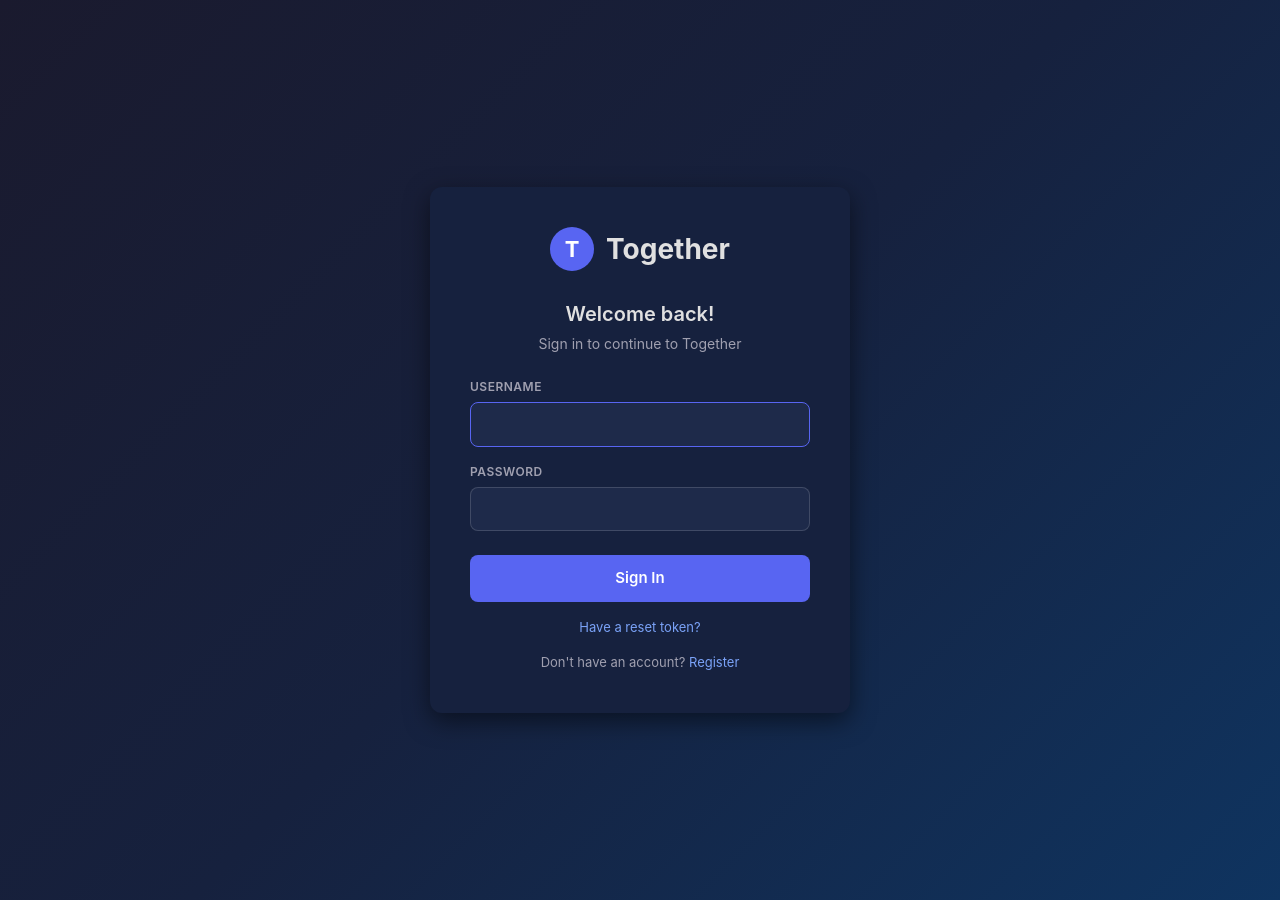
Test case: AuthForm — reset view › switches to reset view when link is clicked
Click the button "Have a reset token?".
click(640, 628)  # box [579, 618, 701, 637]
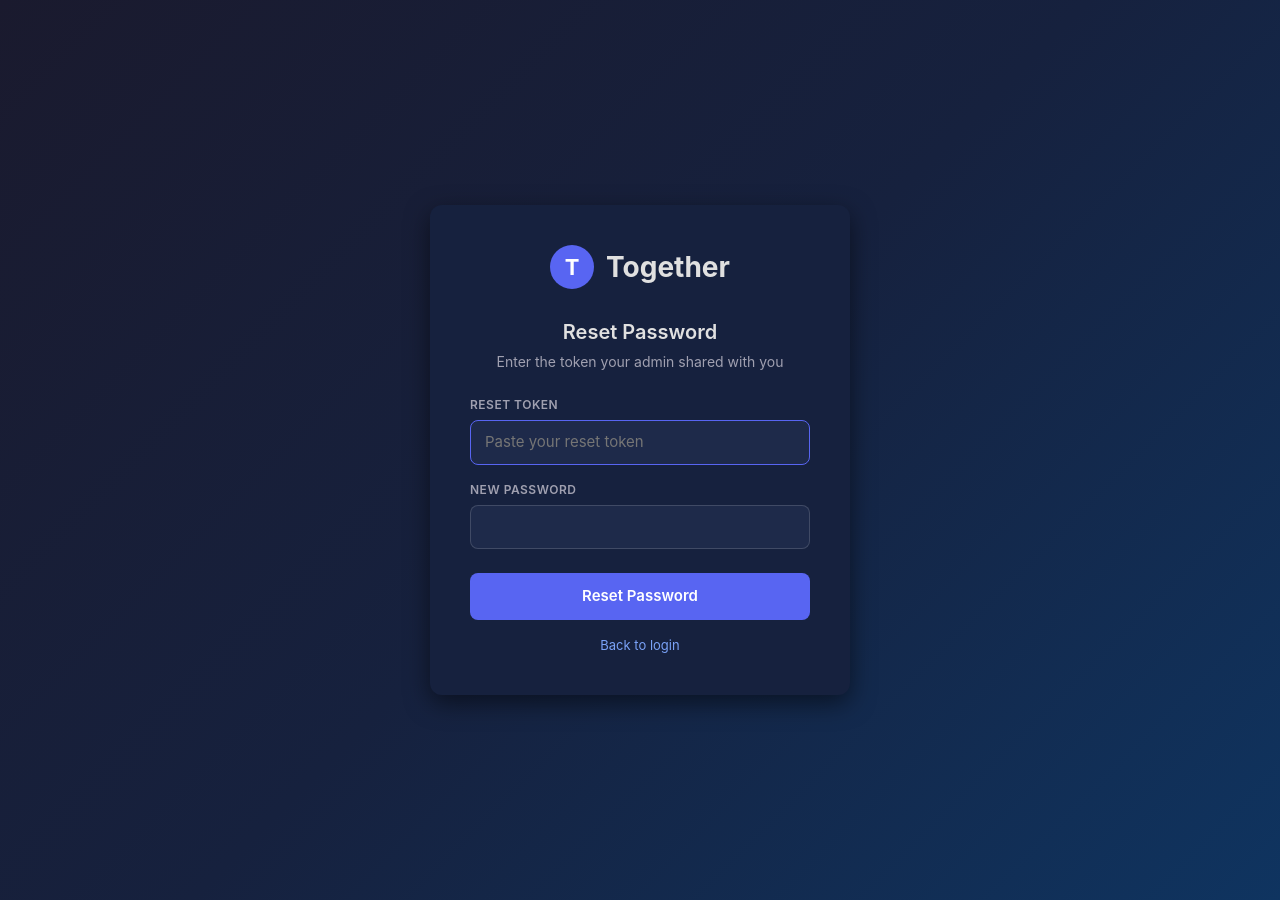
expect the heading "Reset Password" is shown: met, box [563, 320, 717, 344]
expect the field labelled "Reset Token" is shown: met, box [470, 420, 810, 464]
expect the password field labelled "New Password" is shown: met, box [470, 504, 810, 549]
